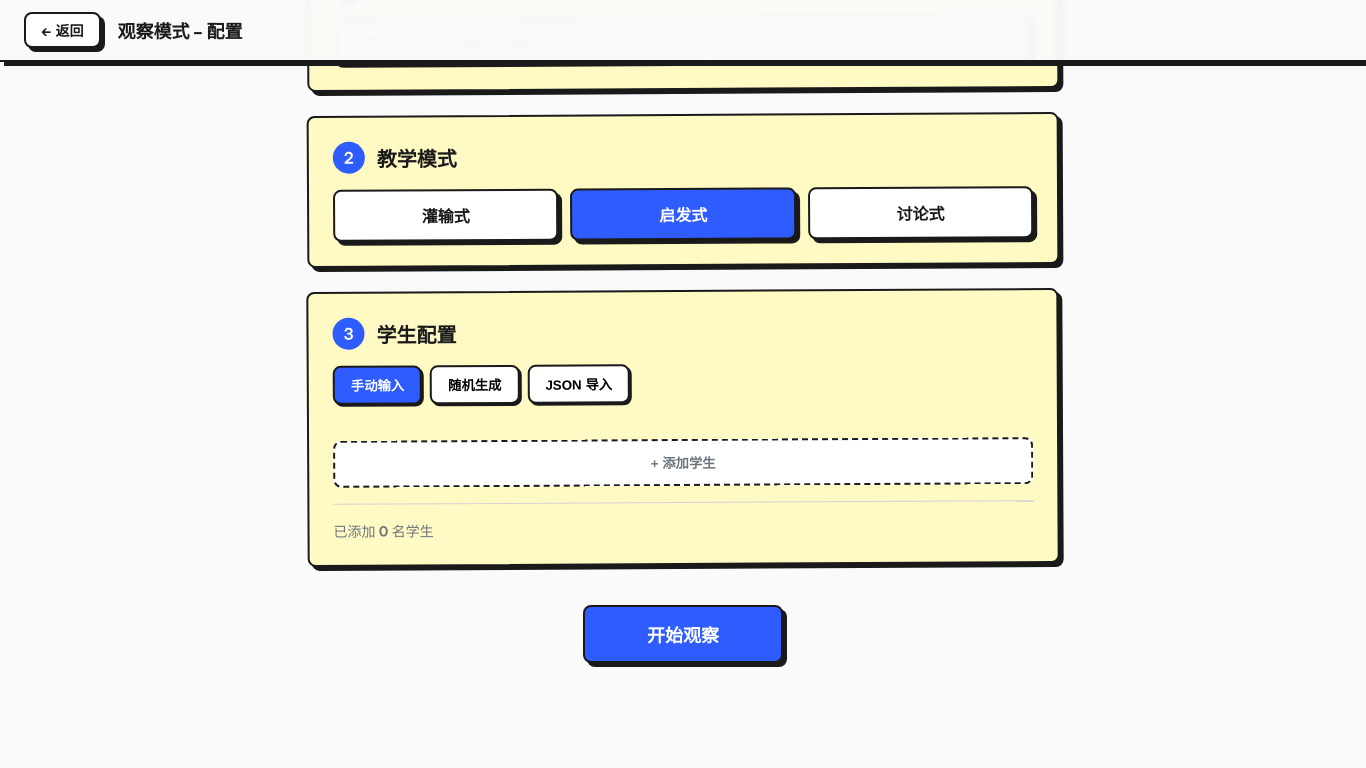
ObservationConfig › JSON import › switches to JSON mode when clicking tab
(page scrolled)
Click the button "JSON 导入" at point(579, 384), box [527,364,630,404]
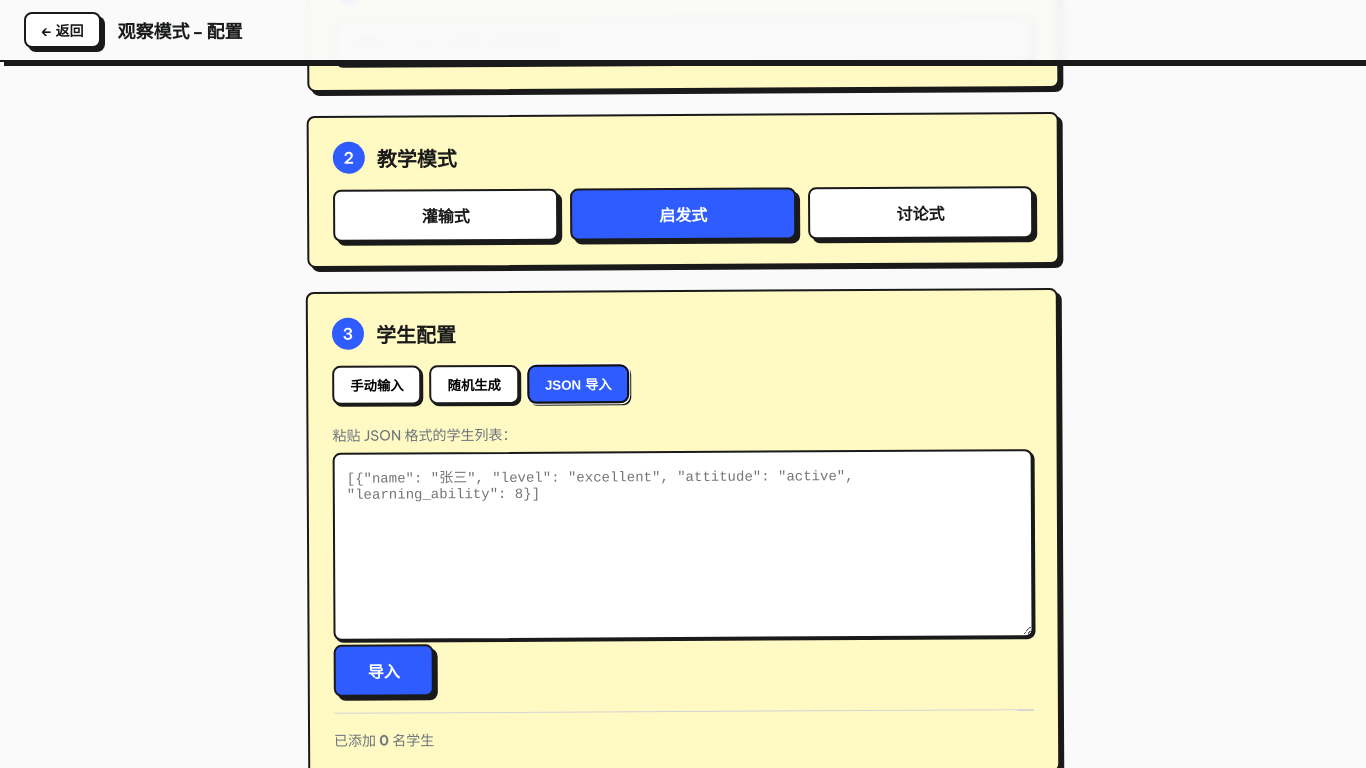
Now the text "粘贴 JSON 格式的学生列表：" is shown, box [332,426,516,445]
Now the text box with class "json-textarea" is shown, box [333,449,1034,641]
Now the button "导入" is shown, box [334,644,434,697]
